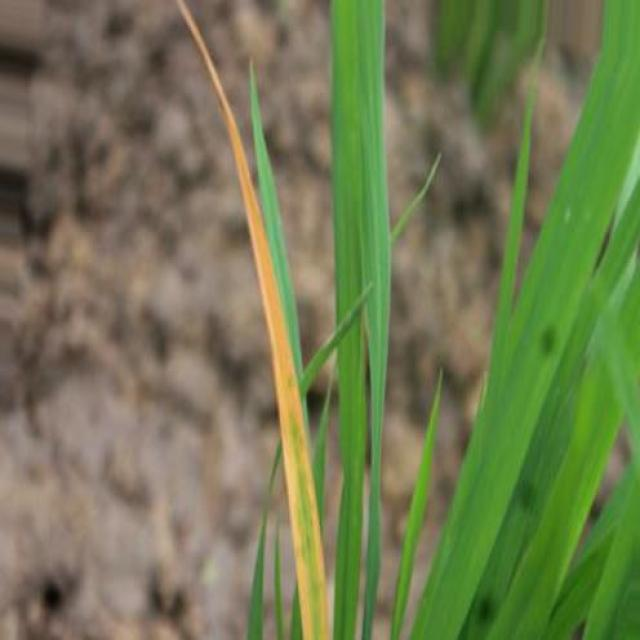Rice Tungro: (178, 0, 329, 638)
